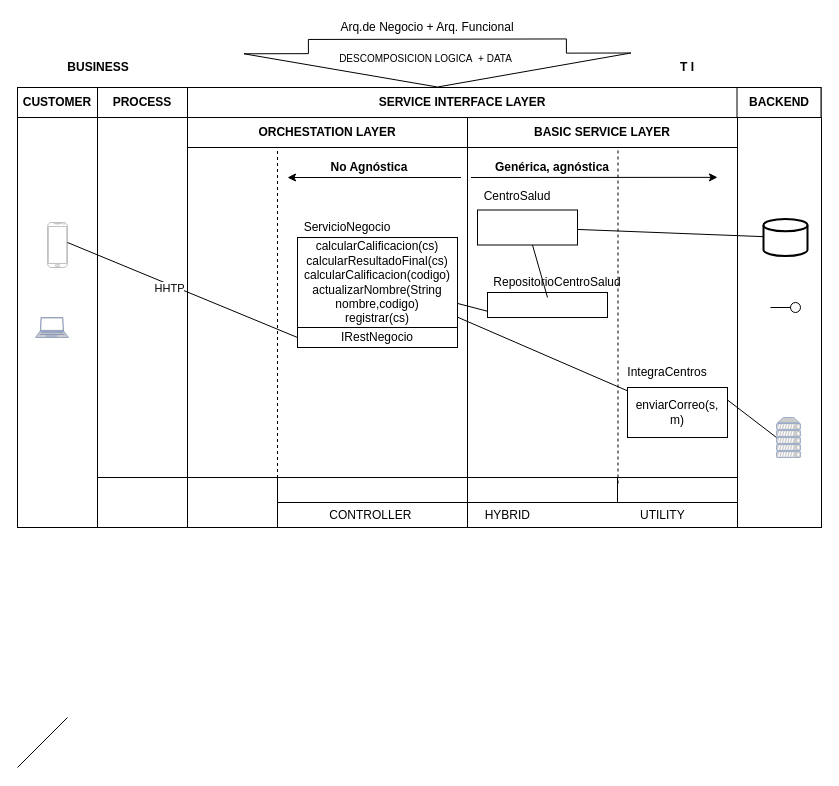
The diagram is 839 pixels wide and 786 high, and some of its shapes have lost their labels. The shapes that lost their labels are listed below. From the top down, each one's box as (x1, y1, x2, y2) in pixels, then its label:
(96, 476, 188, 528): BPM >Time
(186, 476, 278, 528): BPEL
(276, 476, 468, 502): TASK
(466, 476, 618, 502): ENTITY
(616, 476, 738, 502): WRAPPER INTEGRATION
